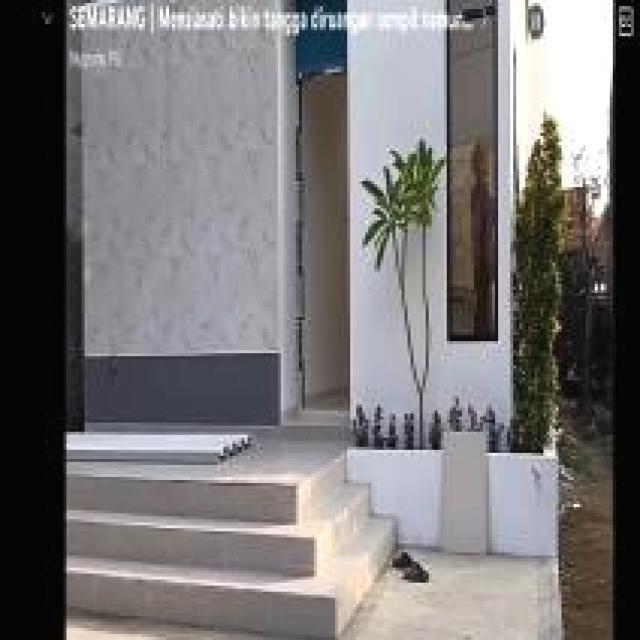upstair: (68, 463, 352, 640)
